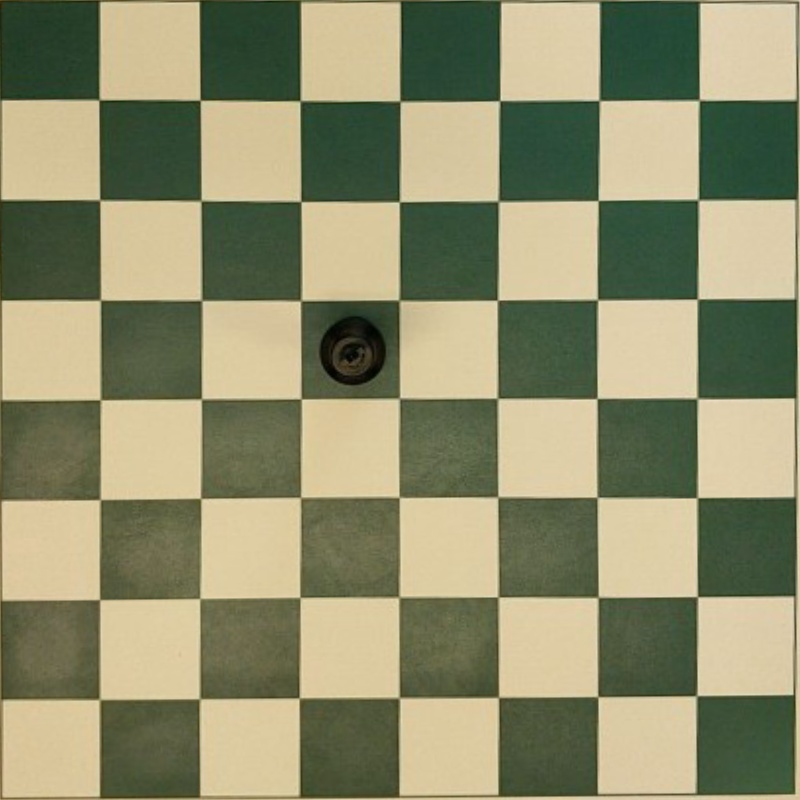black-king: (320, 315, 385, 384)
